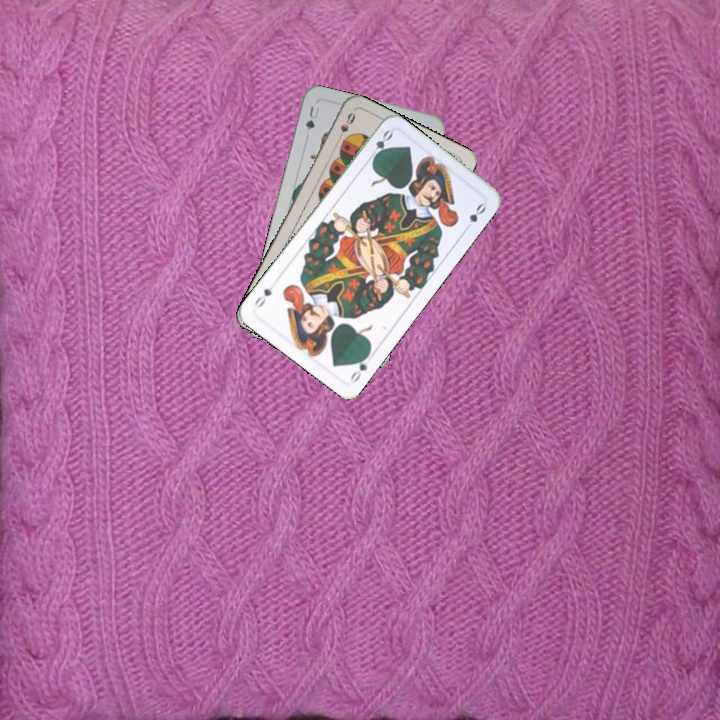GO: (365, 126, 395, 164), (346, 348, 373, 385)
GU: (301, 102, 322, 133)
S9: (333, 108, 358, 146)
